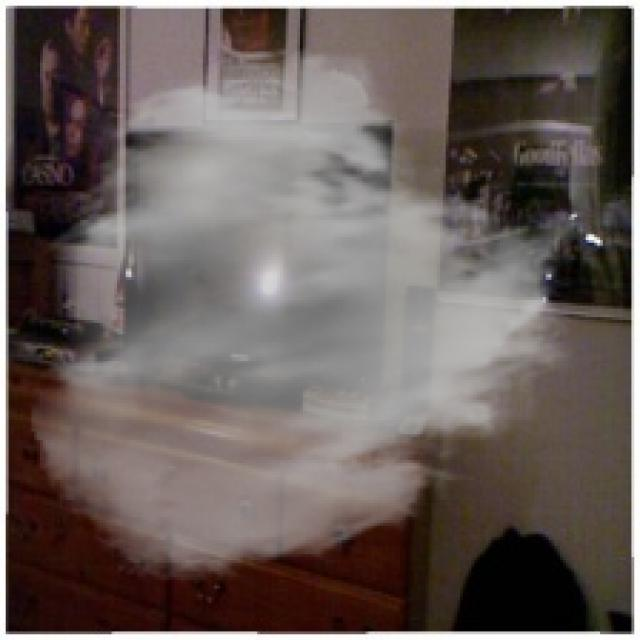smoke: (26, 43, 588, 586)
